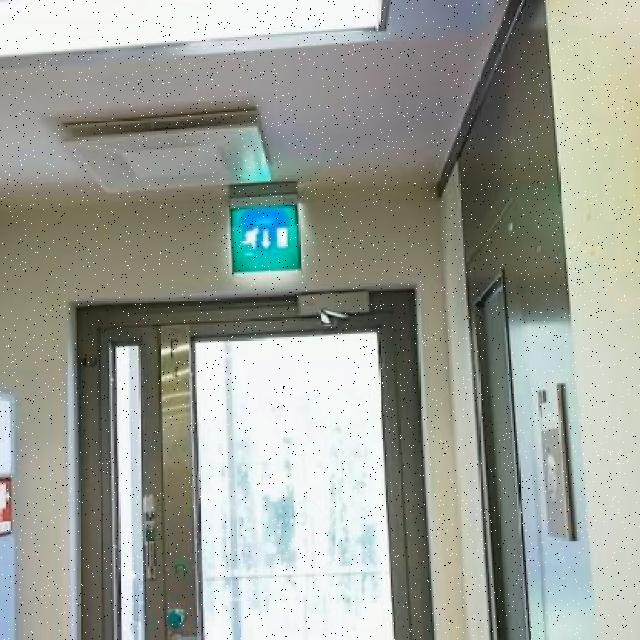emergency_exit: (229, 201, 302, 276)
